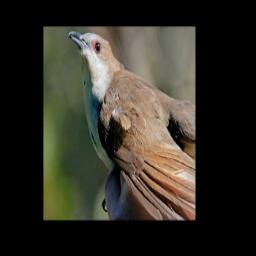Cuckoo: (68, 32, 196, 220)
